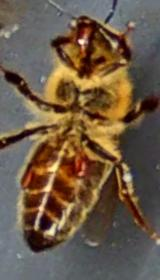varroa_mite: (65, 154, 94, 182), (20, 164, 35, 189)
